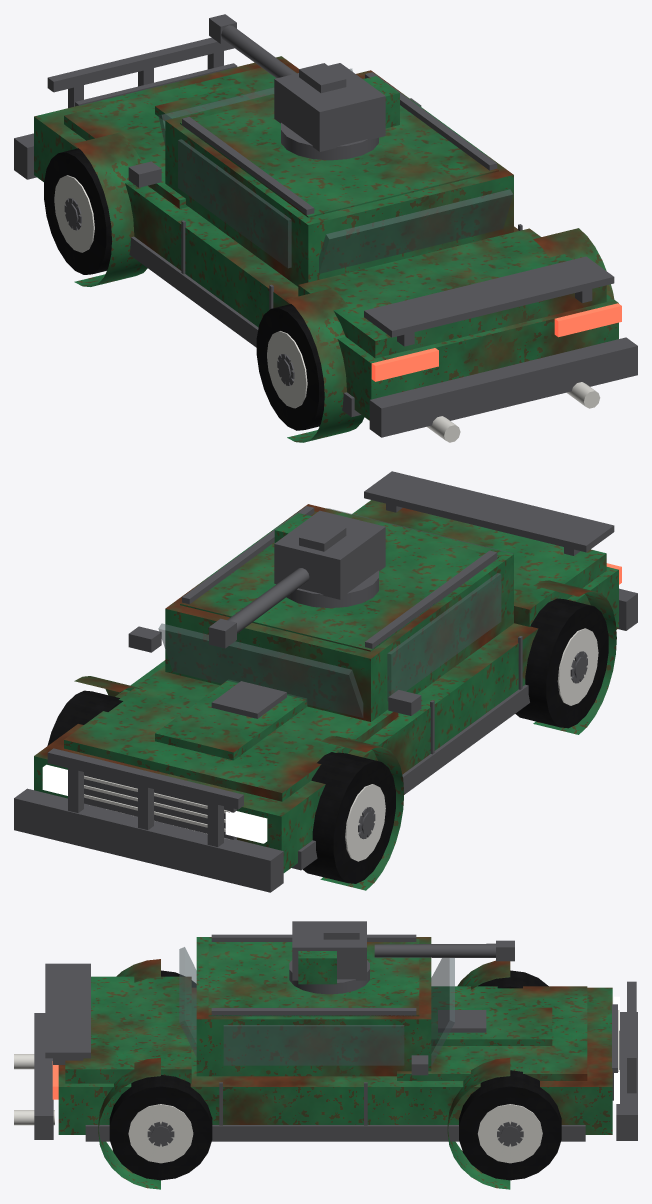
The model's file is enemy_raider_b.glb.
3 views of the same model, one above another, from view 1: azimuth 30°, elevation 25°; view 2: azimuth 150°, elevation 25°; view 3: azimuth 270°, elevation 25° (orthographic). The views are drawn at different scales.
Parts seen in each view (by area): view 1: raiderB_Body, Turret, Hood, Wheel_RL, Wheel_FL, Barrel; view 2: raiderB_Body, Hood, Wheel_FL, Wheel_RL, Turret, Barrel, Wheel_FR; view 3: raiderB_Body, Hood, Wheel_FR, Wheel_RR, Turret, Barrel, Wheel_FL.
Part boxes in pixels (left/top/right/bottom): raiderB_Body: left=14, top=37, right=637, bottom=442; Turret: left=274, top=63, right=399, bottom=160; Hood: left=64, top=62, right=296, bottom=208; Wheel_RL: left=256, top=304, right=324, bottom=430; Wheel_FL: left=44, top=148, right=111, bottom=274; Barrel: left=209, top=14, right=296, bottom=78; raiderB_Body: left=14, top=471, right=637, bottom=892; Hood: left=64, top=666, right=398, bottom=801; Wheel_FL: left=303, top=752, right=395, bottom=883; Wheel_RL: left=515, top=598, right=608, bottom=728; Turret: left=274, top=510, right=385, bottom=608; Barrel: left=209, top=568, right=309, bottom=648; Wheel_FR: left=47, top=690, right=122, bottom=745; raiderB_Body: left=14, top=934, right=637, bottom=1189; Hood: left=397, top=986, right=587, bottom=1080; Wheel_FR: left=459, top=1070, right=561, bottom=1180; Wheel_RR: left=109, top=1075, right=212, bottom=1180; Turret: left=289, top=921, right=369, bottom=994; Barrel: left=374, top=940, right=514, bottom=961; Wheel_FL: left=478, top=970, right=548, bottom=988.
Bounding box in the file's own units: 2.34 × 1.86 × 5.18.
7 materials, 2 textured.
